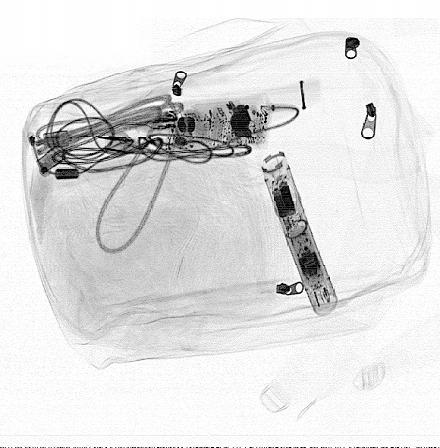Baton: (260, 148, 340, 319)
